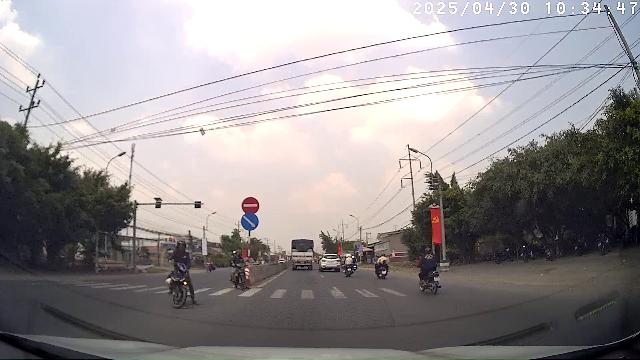102-cam-di-nguoc-chieu: (242, 197, 259, 213)
302a-huong-phai-di-vong-chuong-ngai-vat-1: (241, 213, 258, 230)
